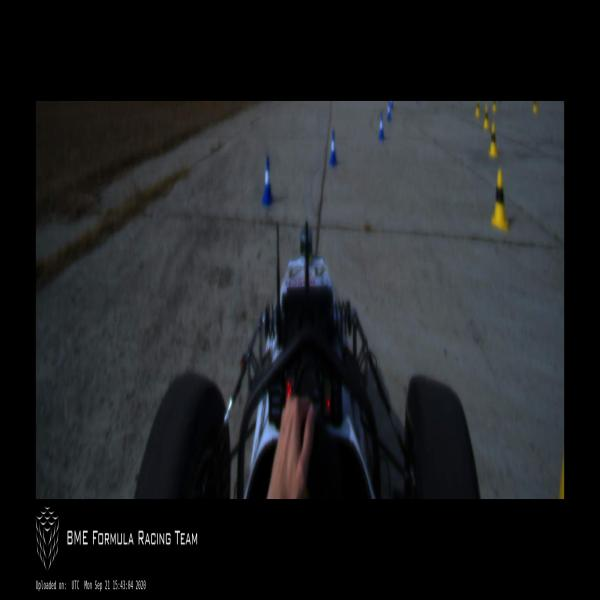blue_cone: (262, 156, 274, 206), (329, 130, 338, 167), (379, 112, 384, 142), (387, 101, 391, 121)
yellow_cone: (491, 169, 509, 232), (489, 122, 500, 158), (483, 104, 490, 130), (476, 101, 480, 117)
